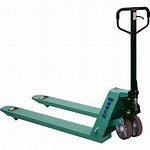Pallet Jack: (1, 6, 150, 144)
